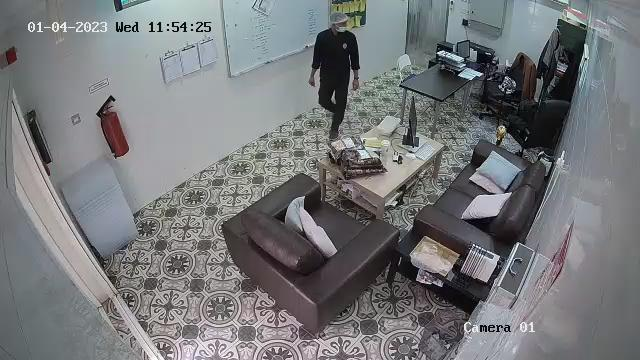no_apron: (319, 34, 354, 88)
